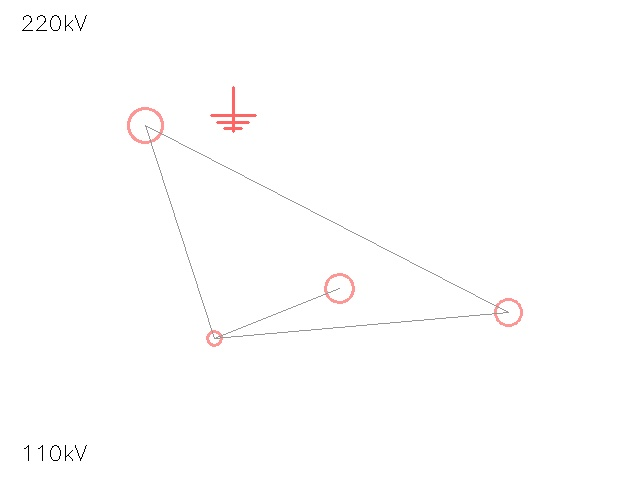current_transformer: (111, 91, 179, 159), (311, 260, 367, 316), (481, 285, 535, 339)
ground: (211, 87, 255, 131)
surge_arrester: (199, 323, 229, 353)
